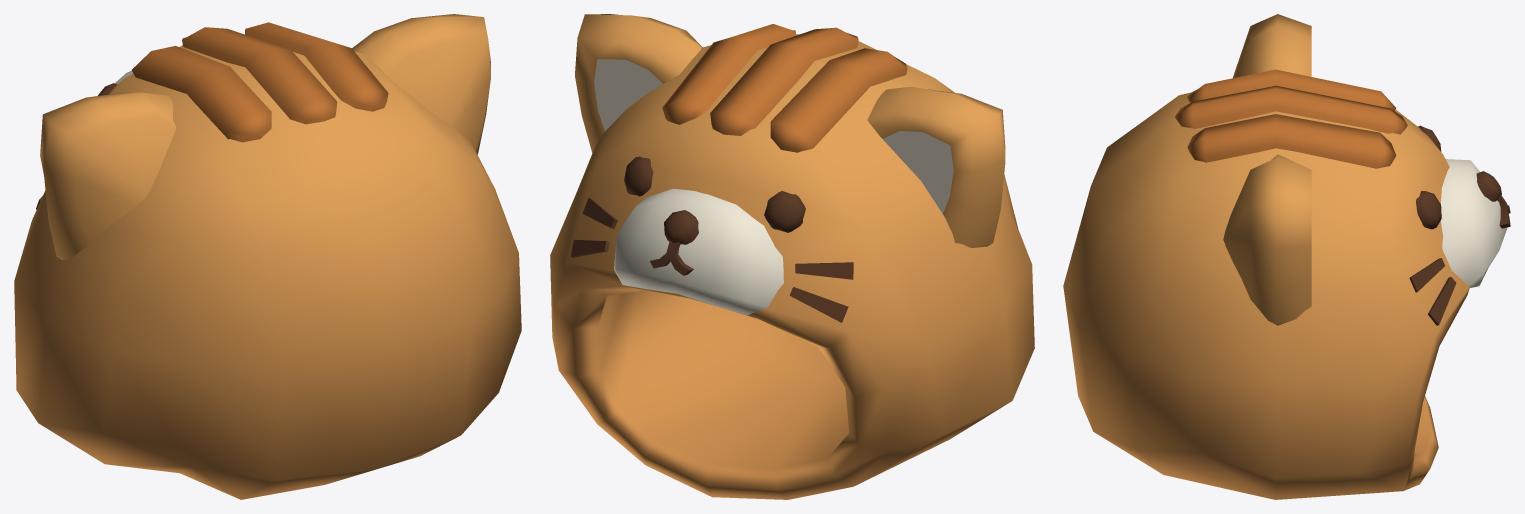
The model's file is Headgear_20.fbx.
3 views of the same model, side by side, from view 1: azimuth 30°, elevation 25°; view 2: azimuth 150°, elevation 25°; view 3: azimuth 270°, elevation 25° (orthographic). The views are drawn at different scales.
Visible parts, largest first — view 1: Headgear_20; view 2: Headgear_20; view 3: Headgear_20.
Part boxes in pixels (x1,y1,x2,y2): Headgear_20: (14,14,521,499); Headgear_20: (550,14,1034,499); Headgear_20: (1063,14,1510,499).
Size of the model in its own units: 91.6 by 81.04 by 85.51.
